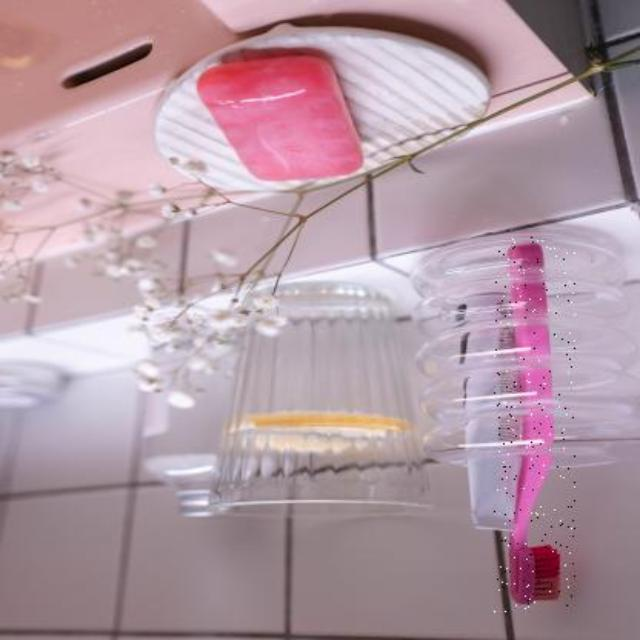toothbrush: (494, 236, 576, 612)
